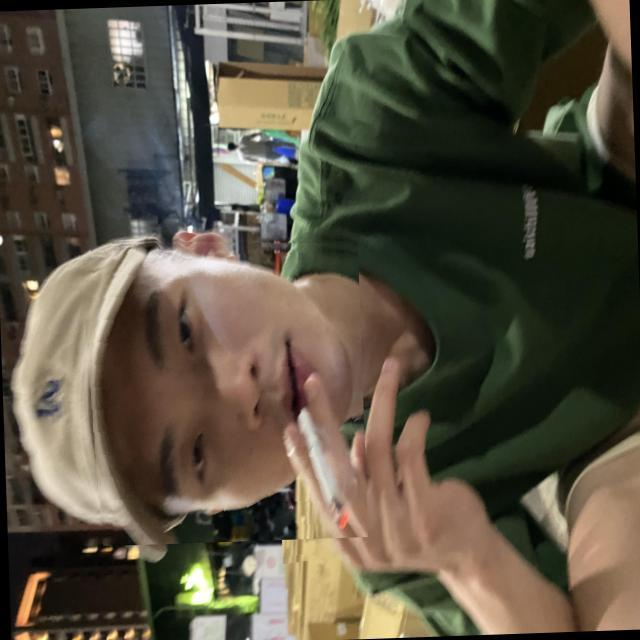cigarette: (276, 378, 361, 564)
